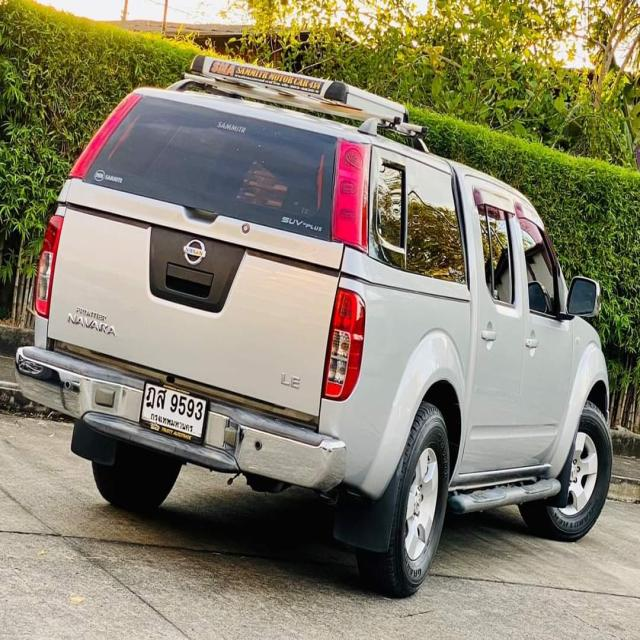license_plate: (136, 376, 212, 452)
